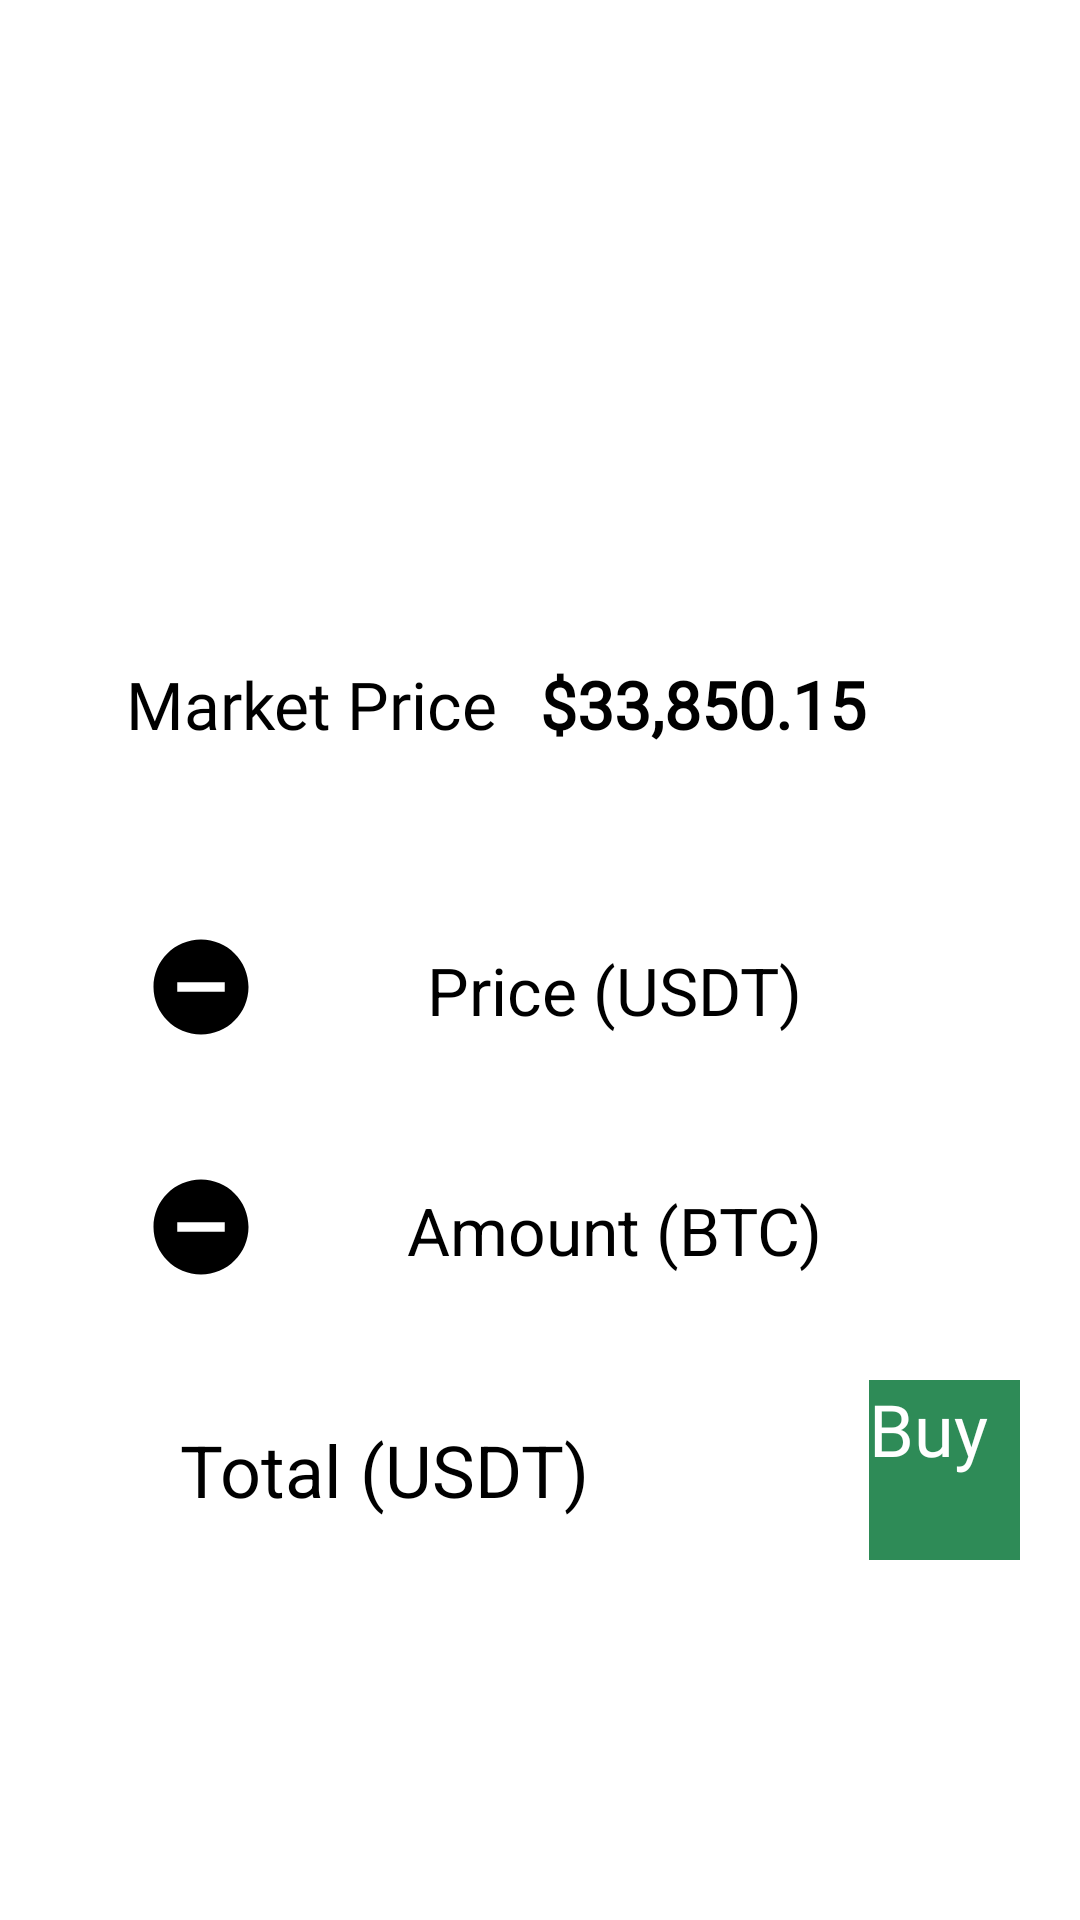

Icons on this 1080×1920 Android screen, each with its box as [left=x1, top=y1, right=x2, bottom=y2]:
do not disturb on: [left=153, top=939, right=249, bottom=1035], [left=153, top=1179, right=249, bottom=1275]
